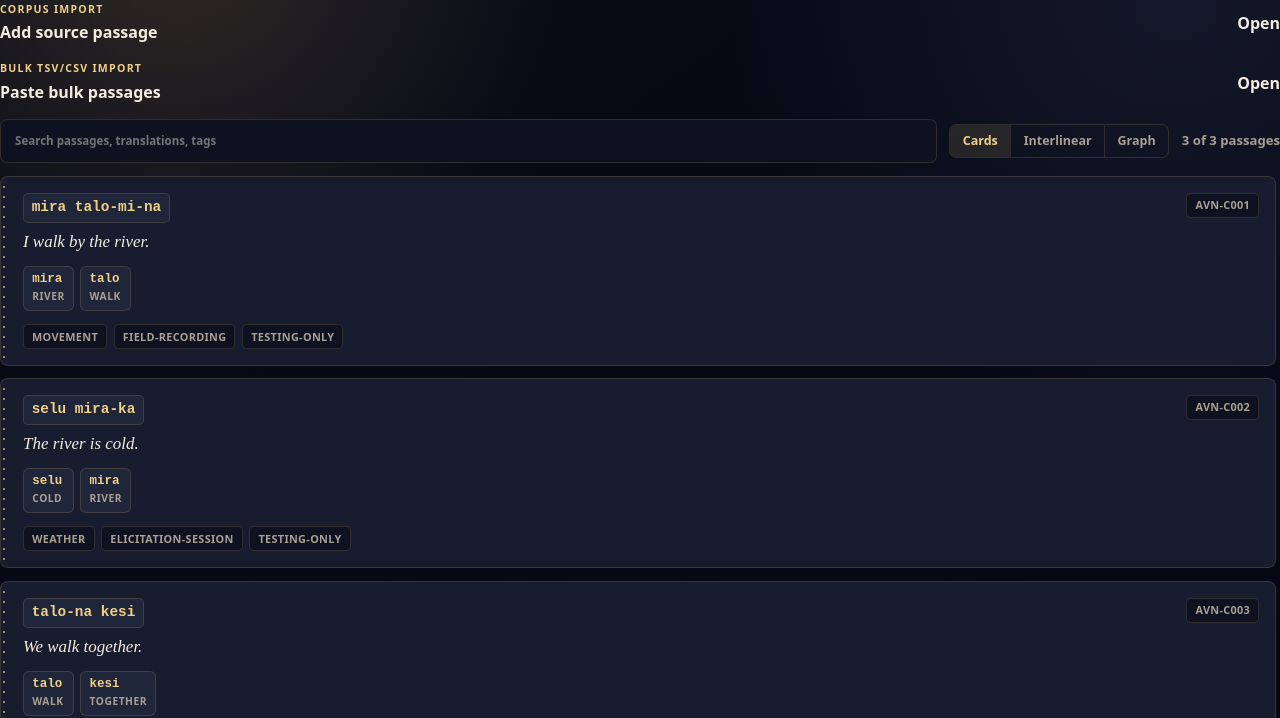
CorpusView network graph mode › zooms the graph through its viewBox and resets without resizing the canvas
Click the button "Graph". click: coordinates (1136, 141)
box: 1104,125 -> 1168,157
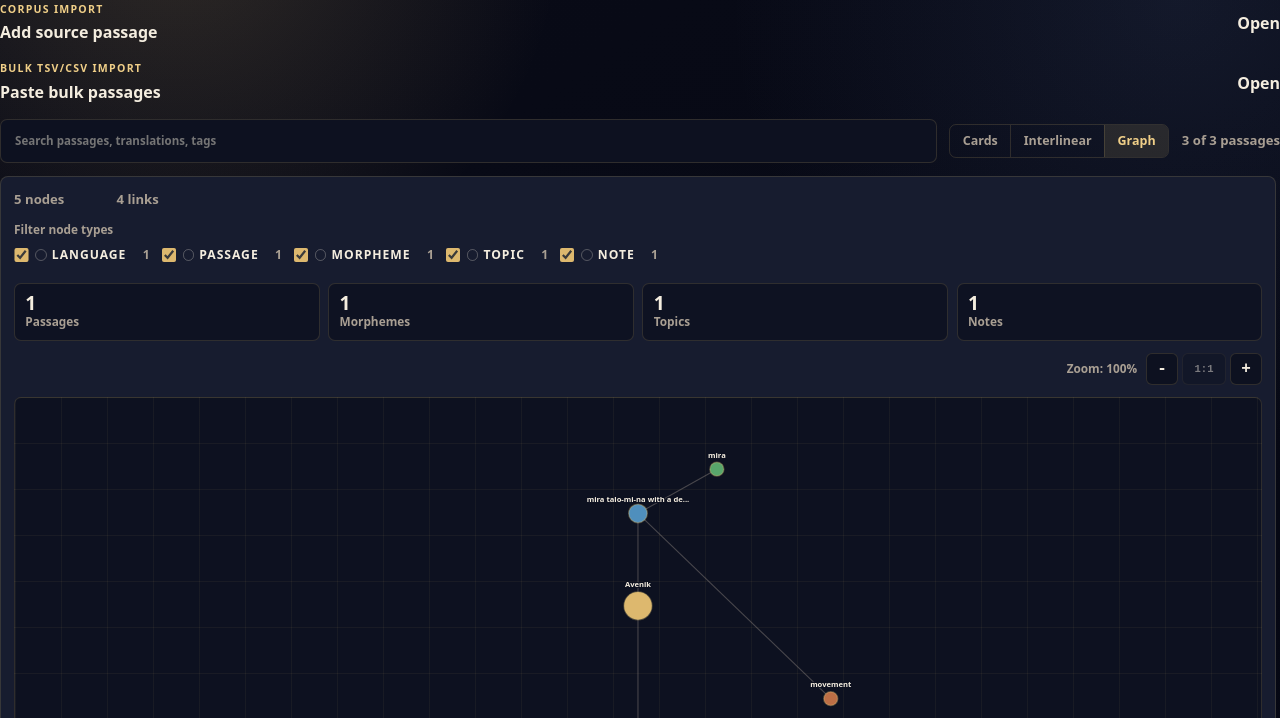
Expected: the button named "Reset zoom" is disabled, 1182,353 -> 1226,385
Click the button named "Zoom in". click: coordinates (1246, 369)
box: 1230,353 -> 1262,385
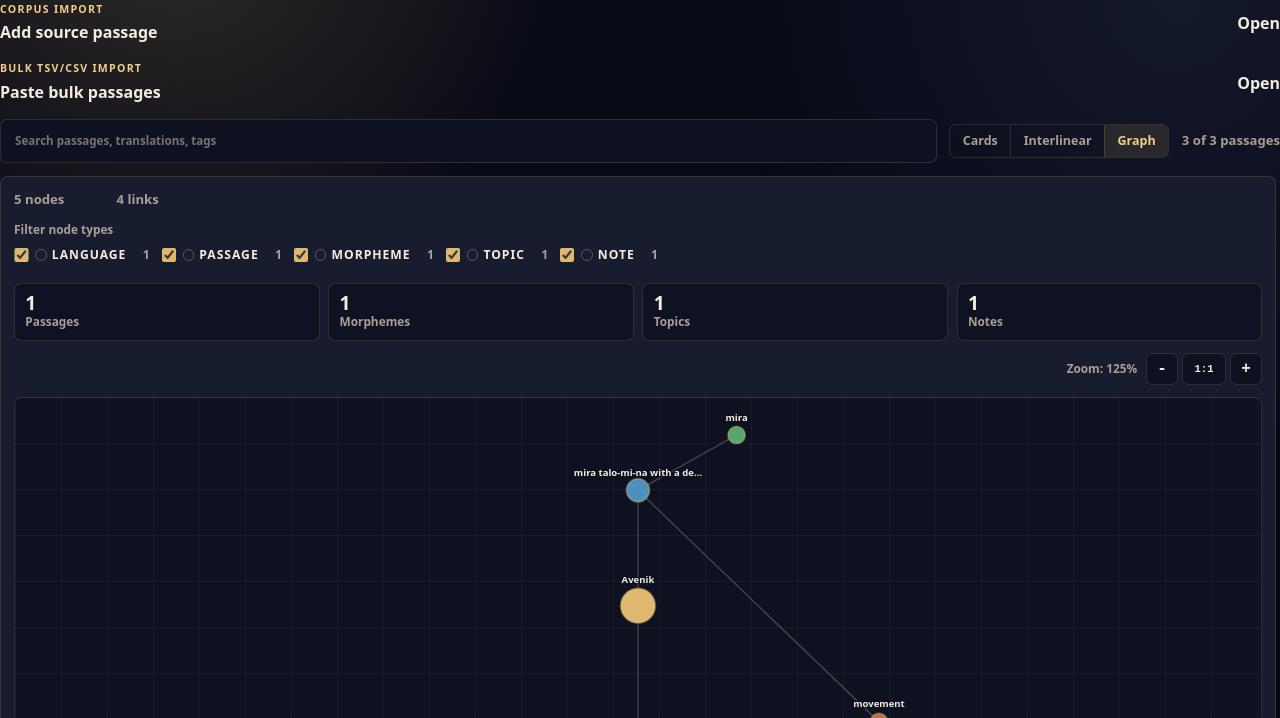
Expected: the text "Zoom: 125%" is shown, 1067,360 -> 1137,376
Click the button named "Zoom out". click: coordinates (1162, 369)
box: 1146,353 -> 1178,385
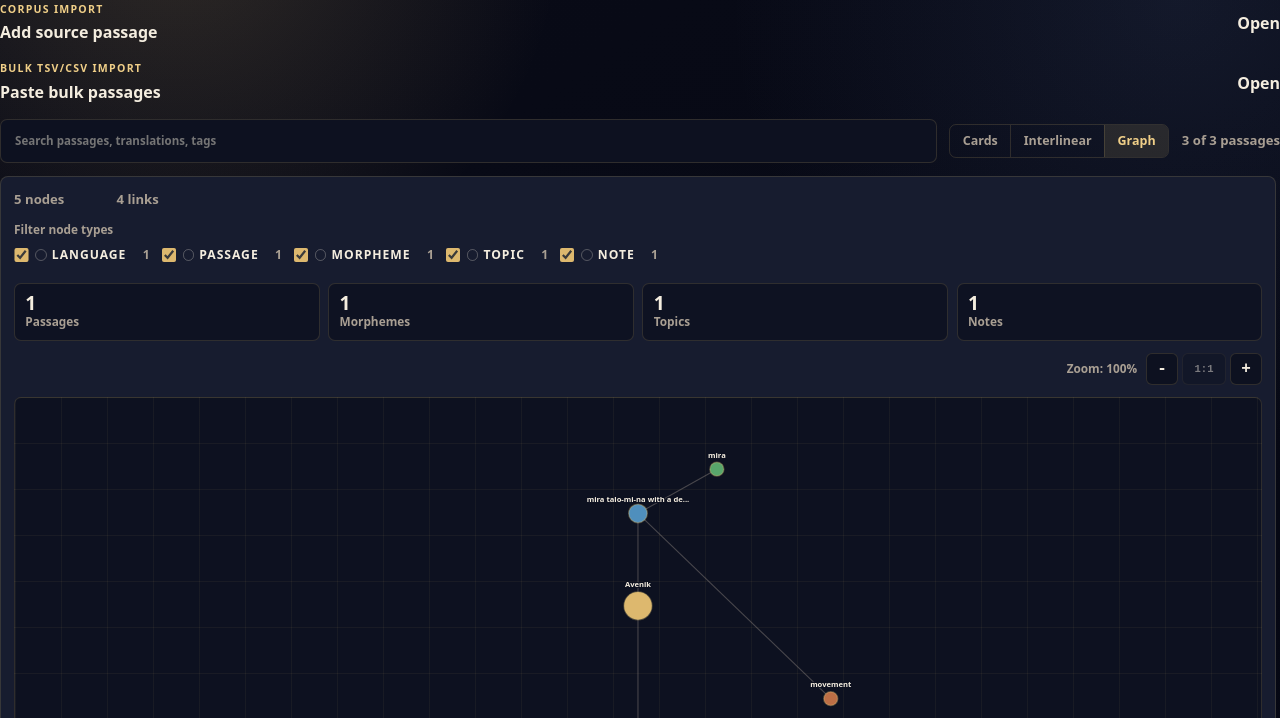
Click the button named "Zoom in". click: coordinates (1246, 369)
box: 1230,353 -> 1262,385
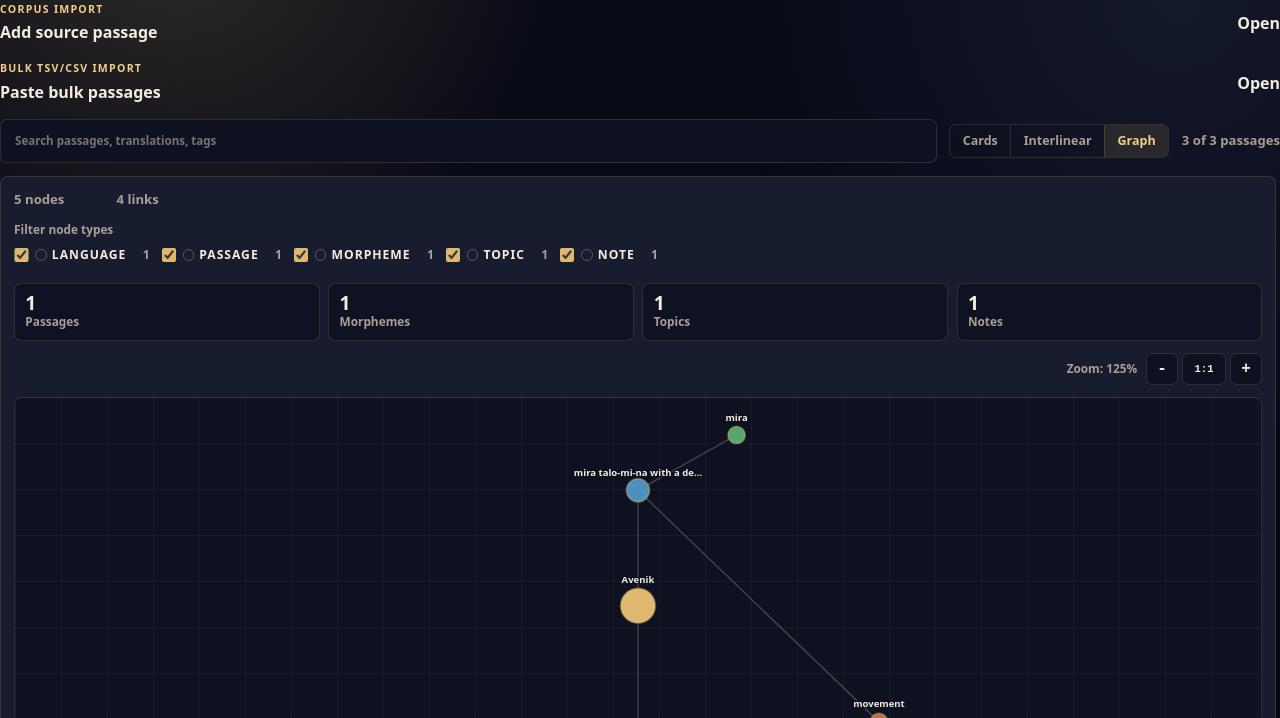
Click the button named "Zoom in". click: coordinates (1246, 369)
box: 1230,353 -> 1262,385
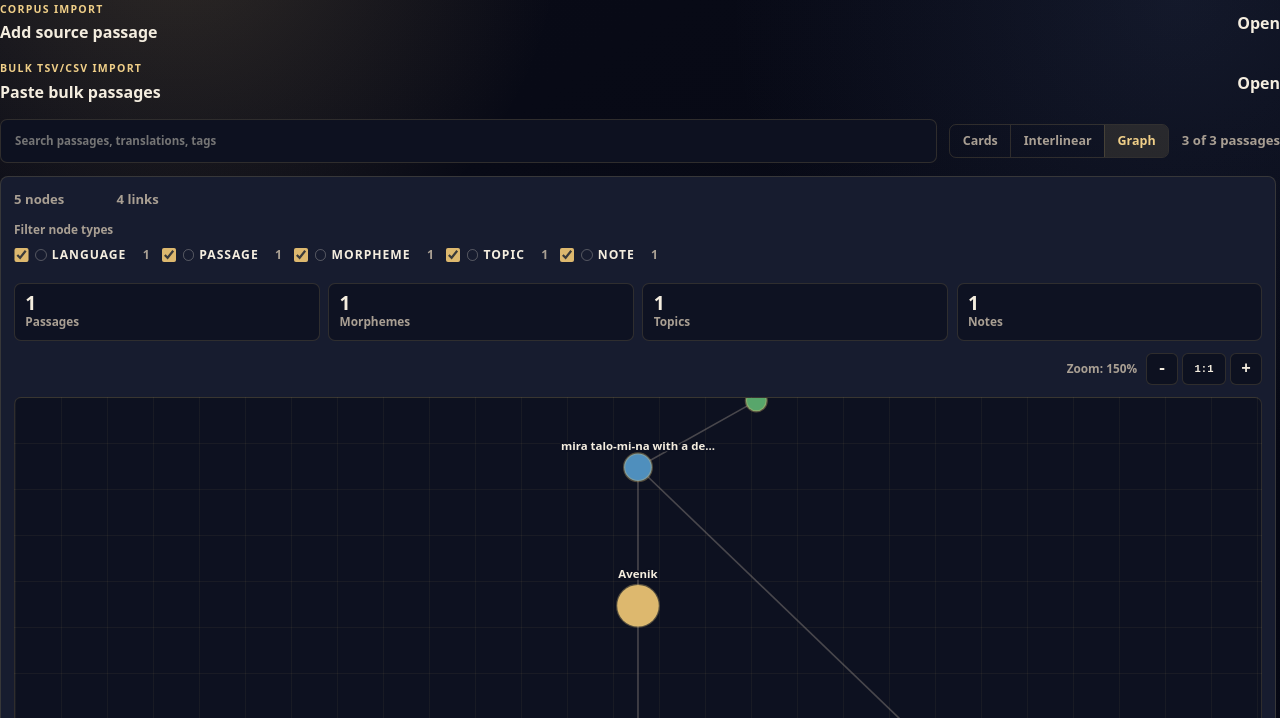
Expected: the text "Zoom: 150%" is shown, 1067,360 -> 1137,376
Click the button named "Reset zoom". click: coordinates (1204, 369)
box: 1182,353 -> 1226,385
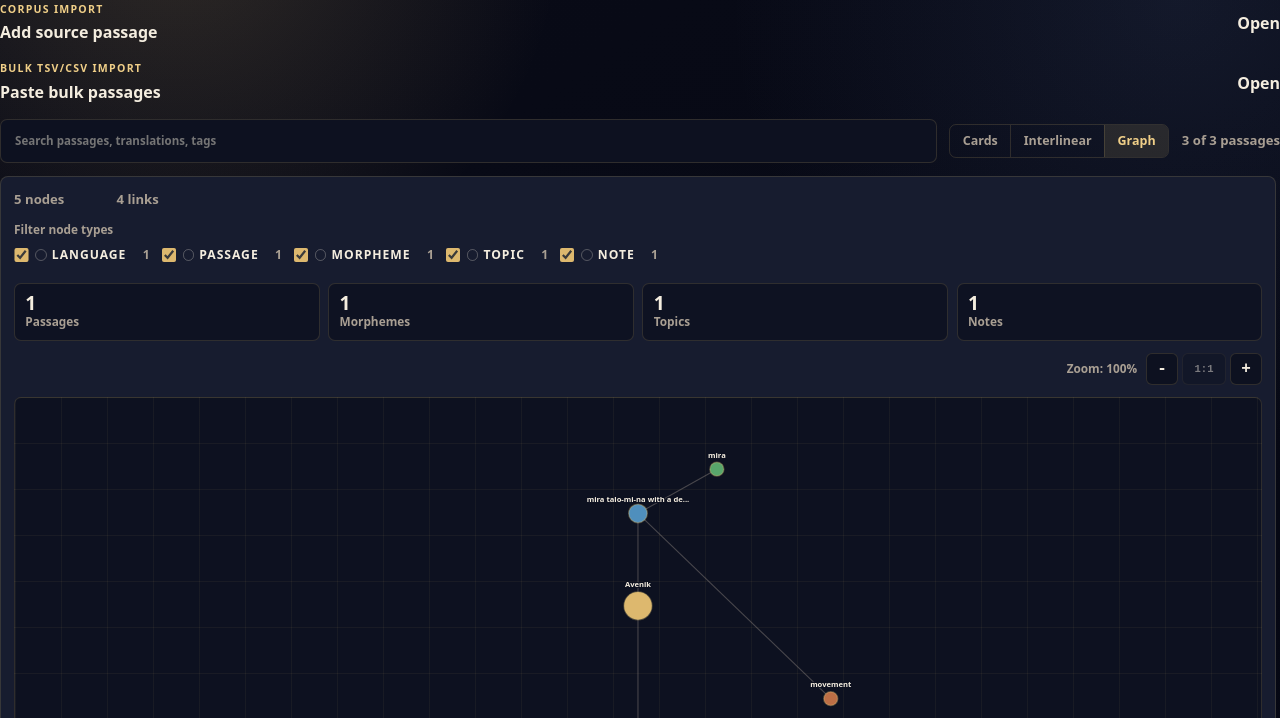
Expected: the text "Zoom: 100%" is shown, 1067,360 -> 1137,376
